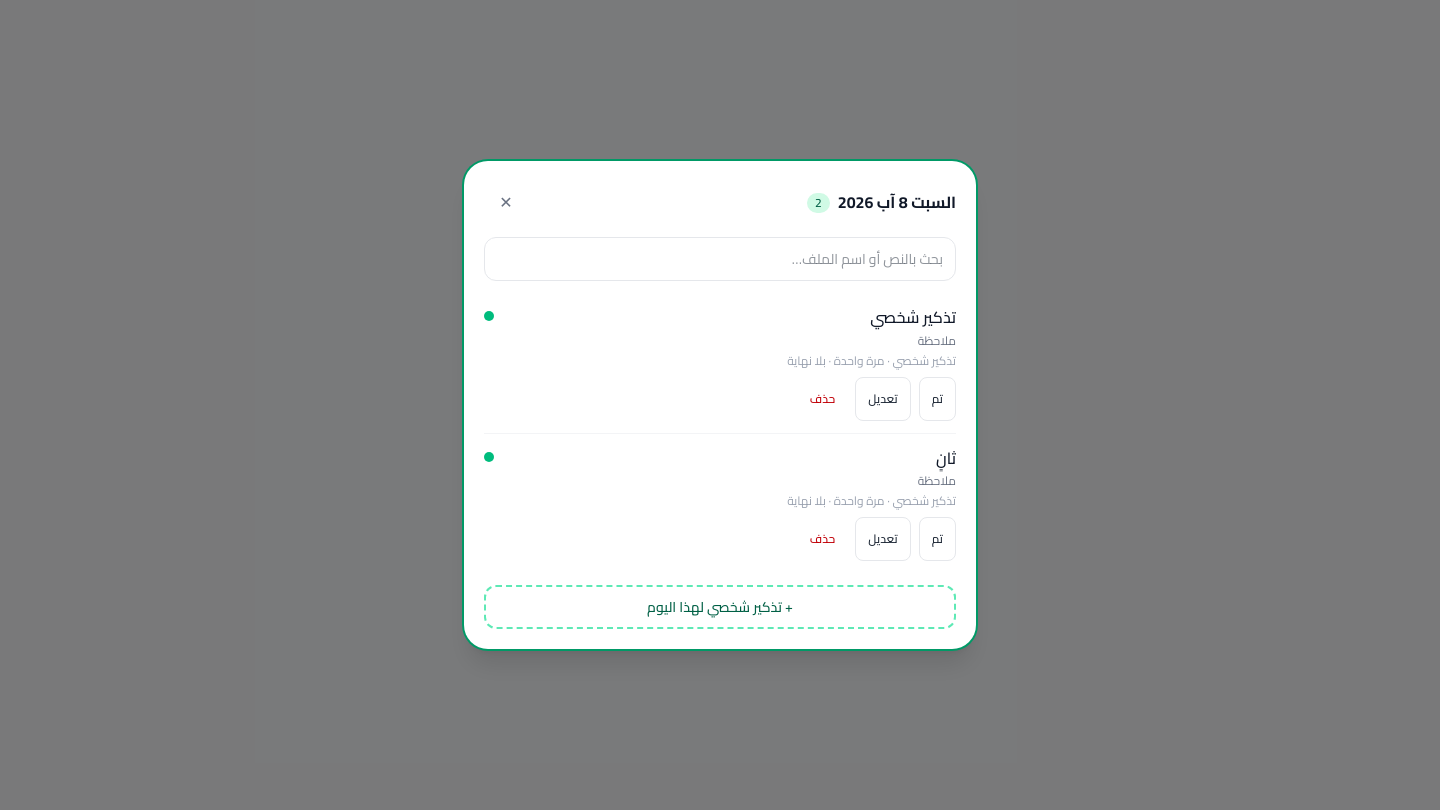
Scenario: DayRemindersModal › يعزل مسودة التعديل عن هدف آخر
The width and height of the screenshot is (1440, 810).
Click the 1st button "تعديل": (883, 398) [855,376,911,420]
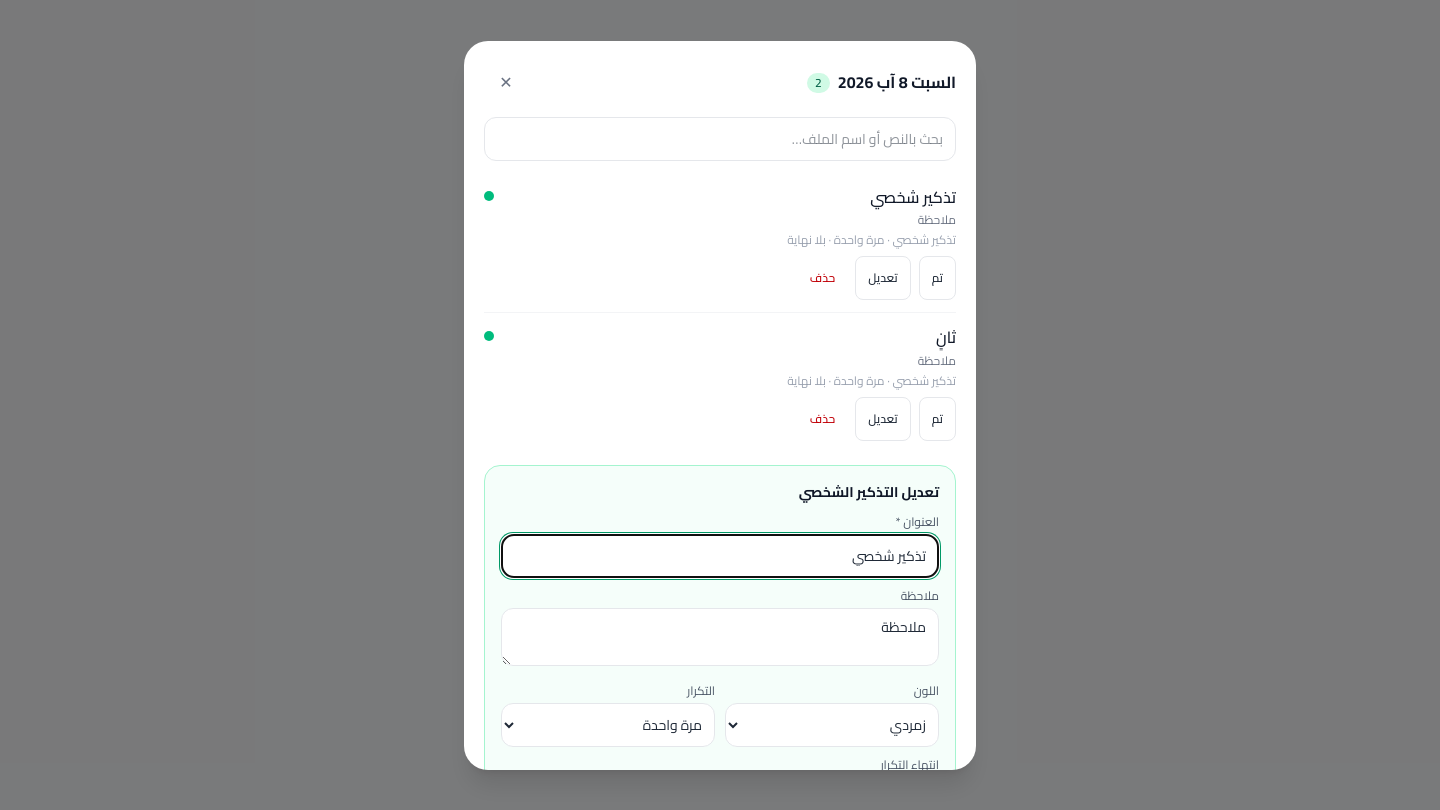
Replace the text in the field labelled "العنوان *" with "مسودة أ": (720, 556) [501,534,939,578]
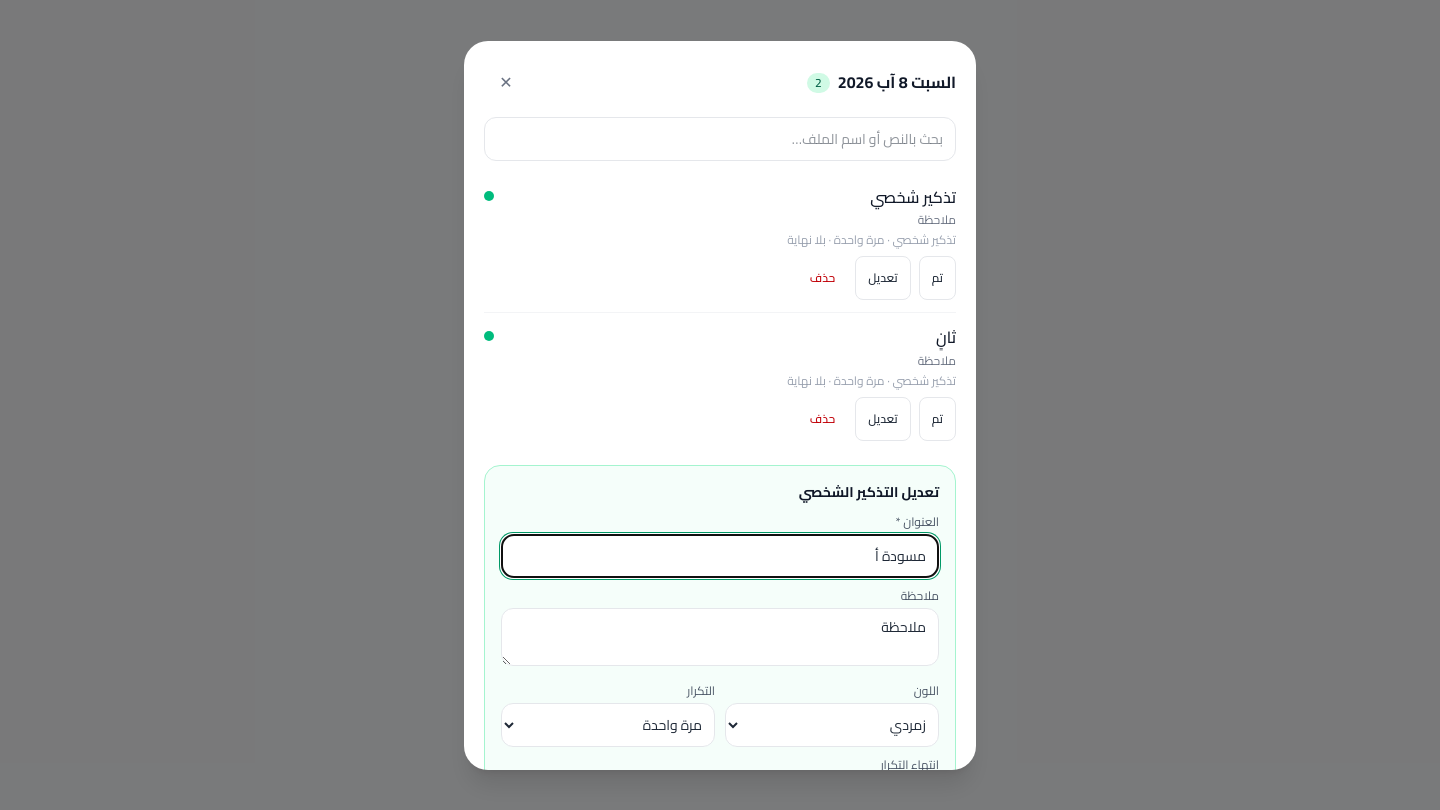
Click the button "تعديل" below "ثانٍ": (883, 419) [855,397,911,441]
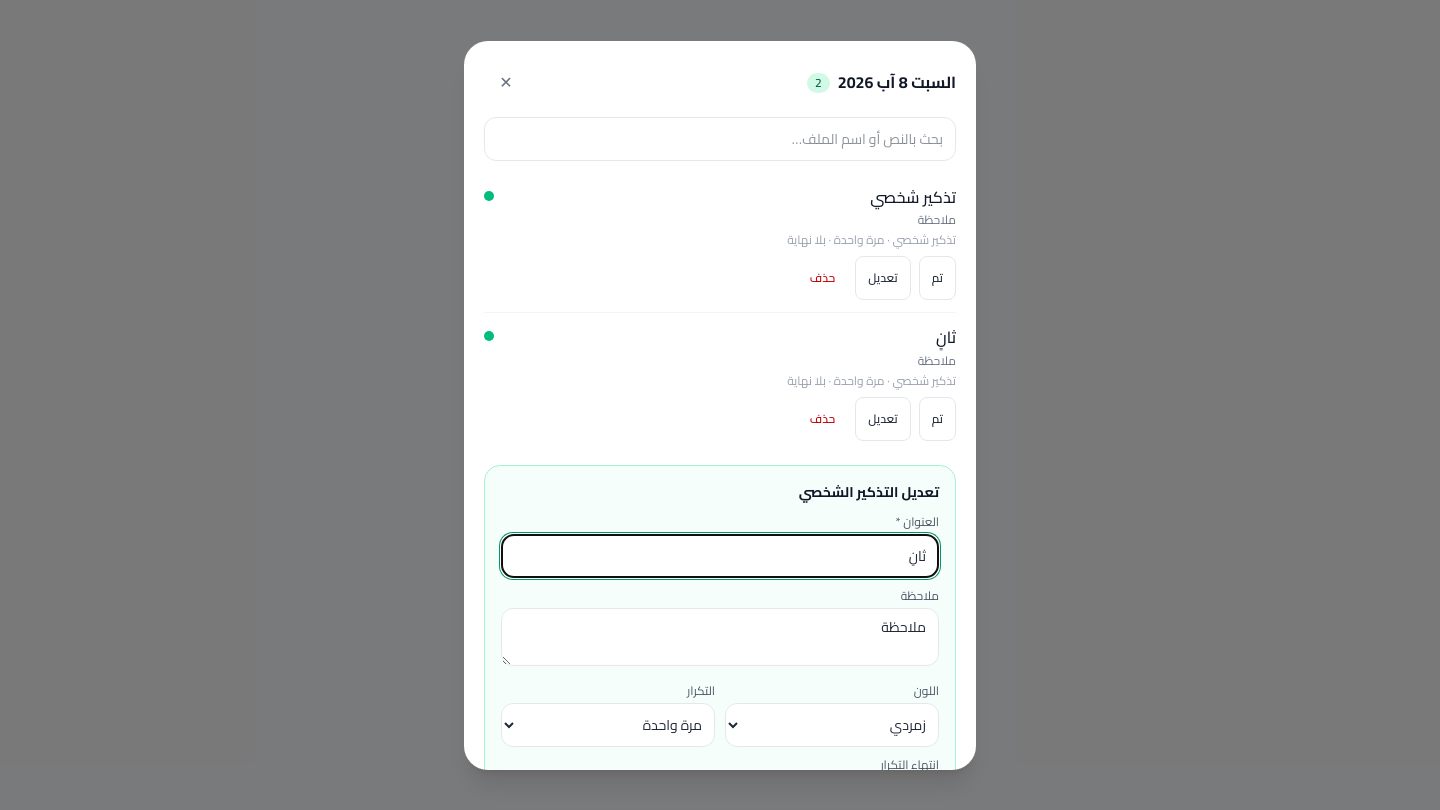
Expected: the field labelled "العنوان *" holds "ثانٍ", [501,534,939,578]
